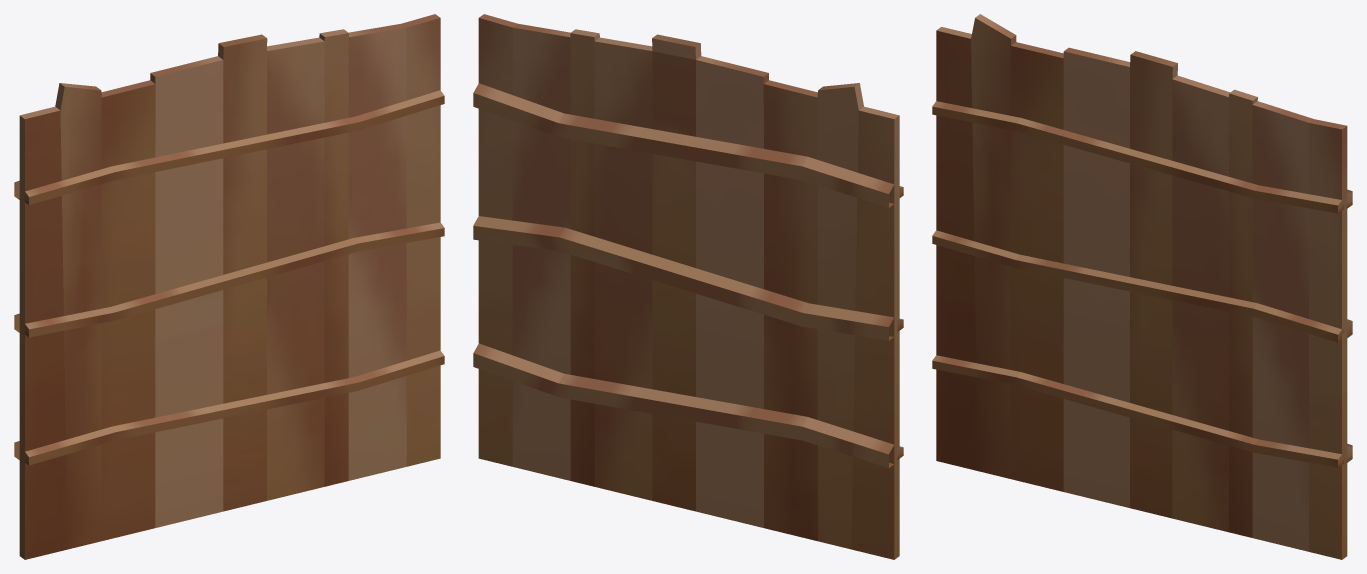
File: SM_Fence_07.fbx
The picture shows the model from 3 angles, left to right: view 1: azimuth 30°, elevation 25°; view 2: azimuth 150°, elevation 25°; view 3: azimuth 330°, elevation 25°; orthographic projection. The views are drawn at different scales.
Visible parts, largest first — view 1: SM_Fence_07; view 2: SM_Fence_07; view 3: SM_Fence_07.
Boxes of the visible parts, x1=… form: SM_Fence_07: x1=14, y1=14, x2=444, y2=559; SM_Fence_07: x1=473, y1=14, x2=903, y2=559; SM_Fence_07: x1=932, y1=14, x2=1352, y2=559.
Size of the model in its own units: 49.81 by 53.18 by 3.09.
